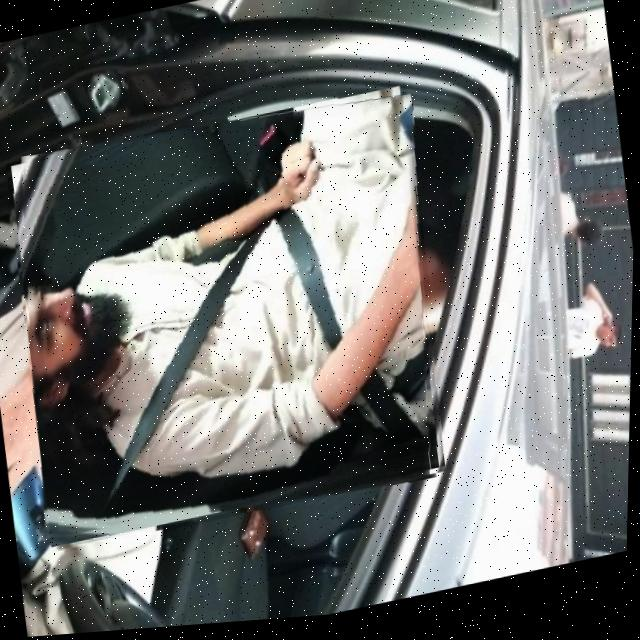seatbelt: (0, 81, 461, 558)
